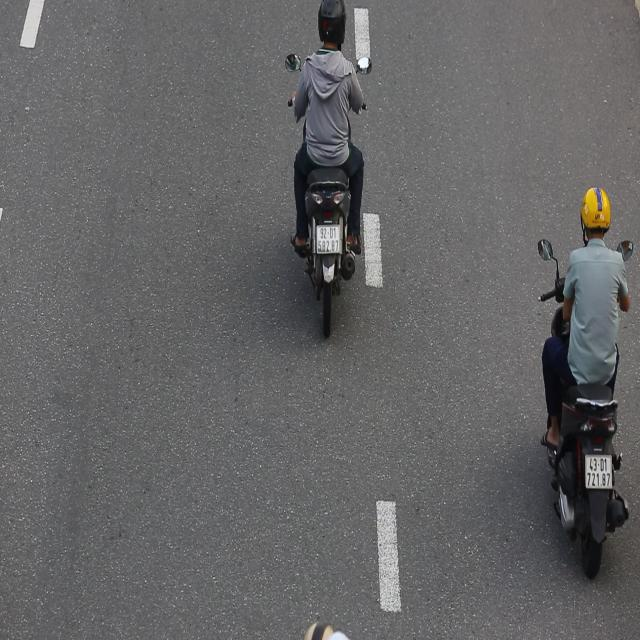motorbike: (524, 178, 640, 584), (274, 0, 377, 350)
